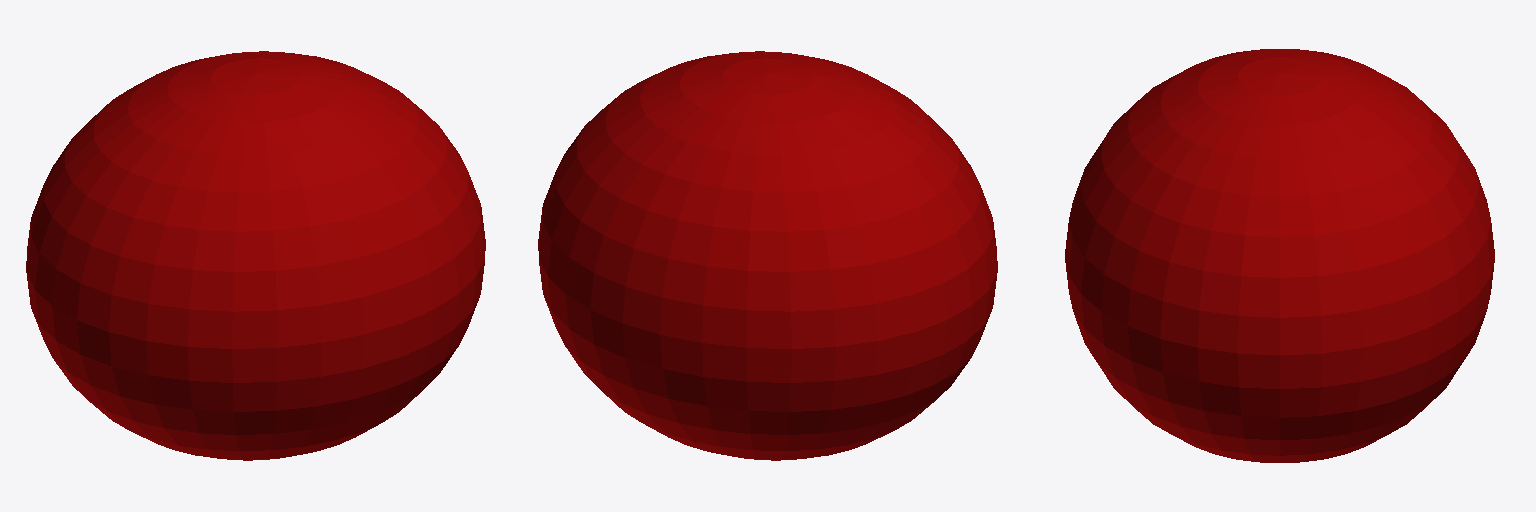
File: moya_airpot_r.obj
The picture shows the model from 3 angles: view 1: azimuth 30°, elevation 25°; view 2: azimuth 150°, elevation 25°; view 3: azimuth 270°, elevation 25°; orthographic projection.
Parts seen in each view (by area): view 1: Sphere_Sphere.005_Sphere_Sphere.008; view 2: Sphere_Sphere.005_Sphere_Sphere.008; view 3: Sphere_Sphere.005_Sphere_Sphere.008.
Boxes of the visible parts, box(x1,y1,x2,y2) form: Sphere_Sphere.005_Sphere_Sphere.008: box(26, 51, 485, 460); Sphere_Sphere.005_Sphere_Sphere.008: box(538, 51, 997, 460); Sphere_Sphere.005_Sphere_Sphere.008: box(1065, 49, 1494, 462).
Bounding box in the file's own units: 0.2297 × 0.1969 × 0.21.